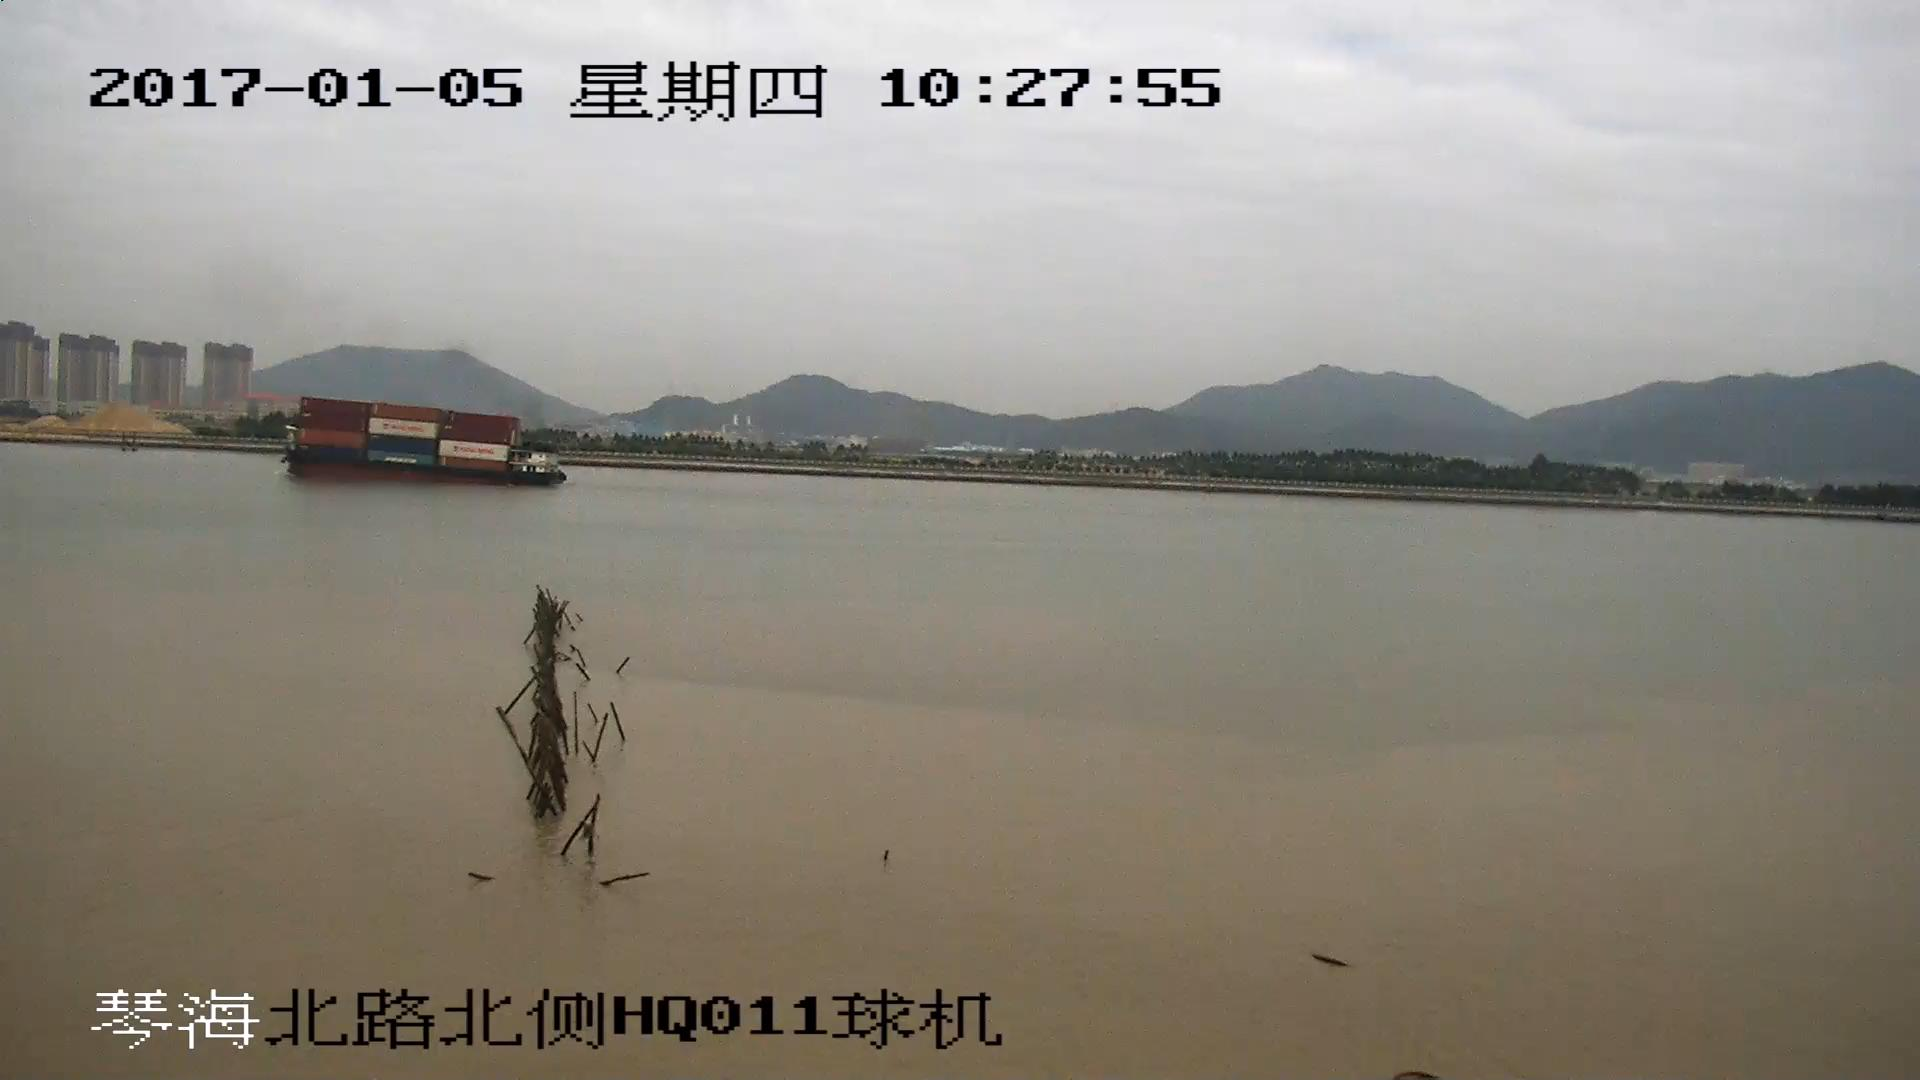container ship: (275, 397, 564, 490)
